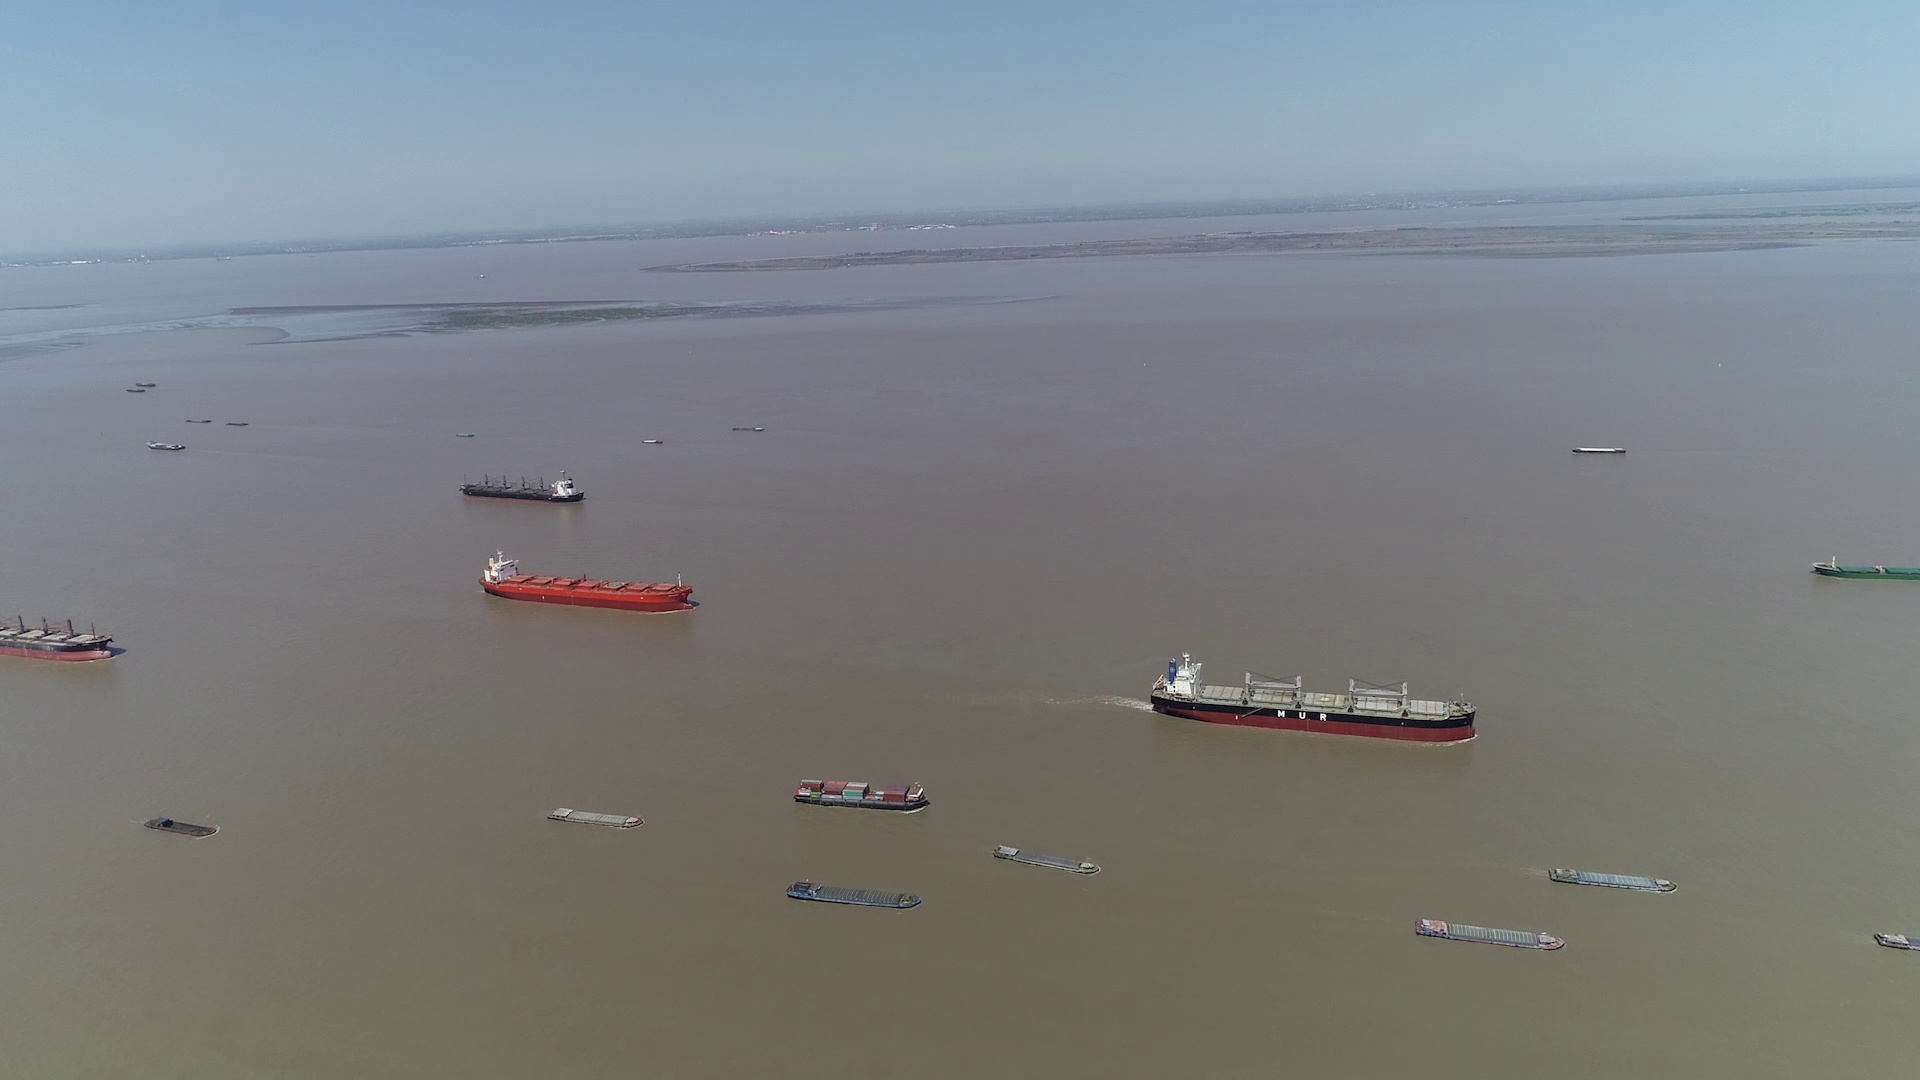ship: (1150, 653, 1477, 741), (484, 551, 696, 612), (1, 599, 117, 663), (1414, 918, 1563, 952), (790, 778, 930, 811), (785, 880, 920, 910), (460, 469, 583, 502), (1549, 866, 1677, 894), (993, 844, 1102, 876), (1812, 558, 1920, 582), (546, 806, 644, 828), (145, 818, 219, 837), (1873, 928, 1917, 953), (1571, 446, 1626, 455), (150, 440, 189, 451), (150, 436, 193, 446)
